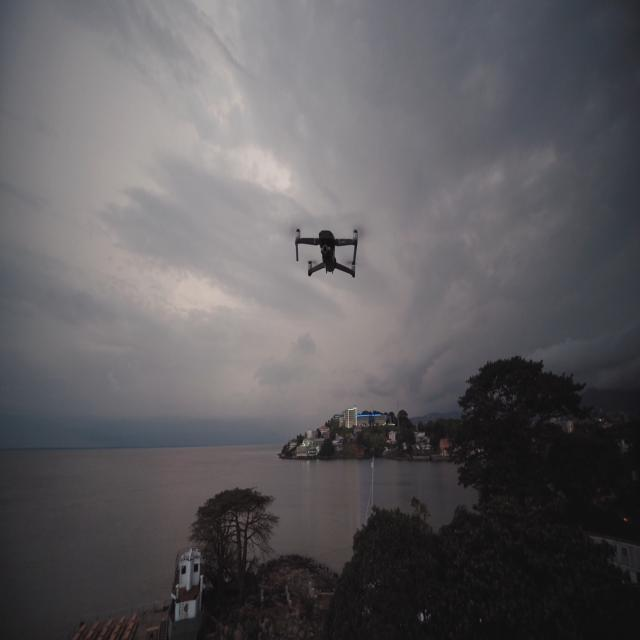drone: (294, 227, 358, 278)
